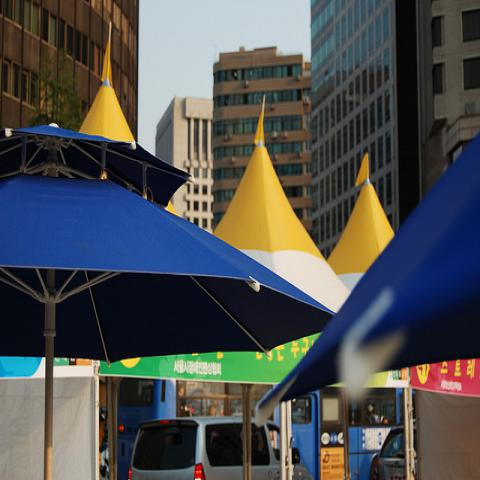bus: (274, 387, 420, 480)
car: (128, 413, 314, 479), (370, 413, 417, 472)
